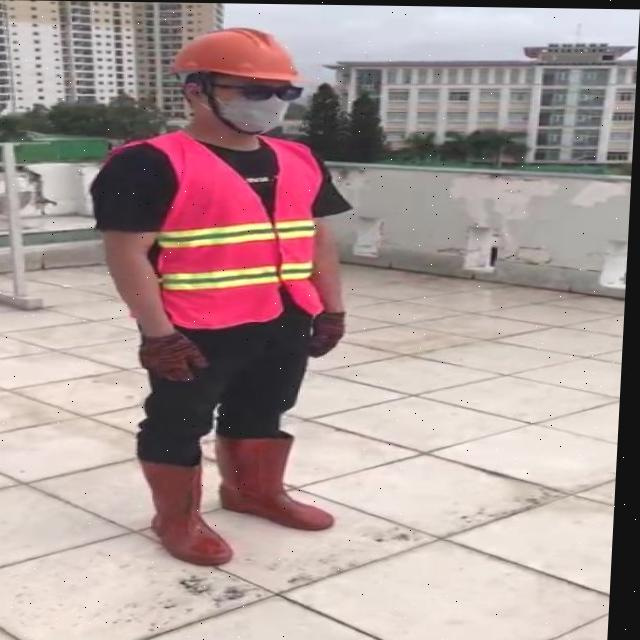Gloves: (142, 329, 216, 383), (311, 308, 350, 357)
Helmet: (168, 25, 304, 84)
Safety-Boot: (218, 427, 345, 529), (142, 450, 244, 564)
Safety-Vest: (90, 126, 357, 332)
